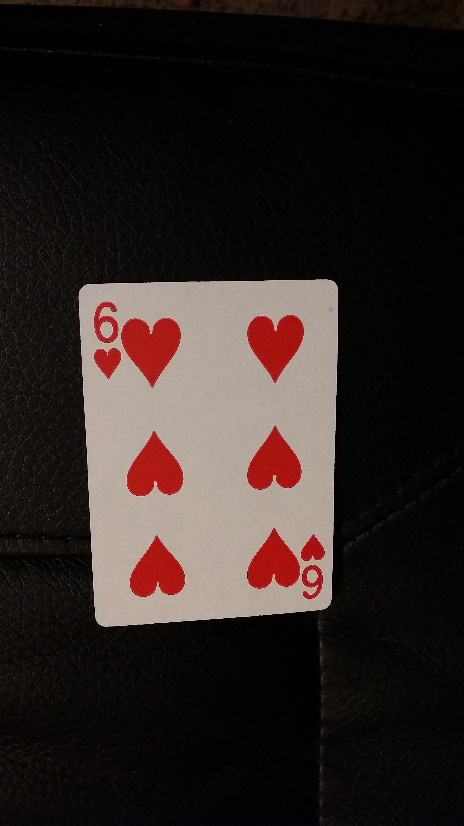H6: (90, 297, 125, 379), (297, 530, 327, 601)
